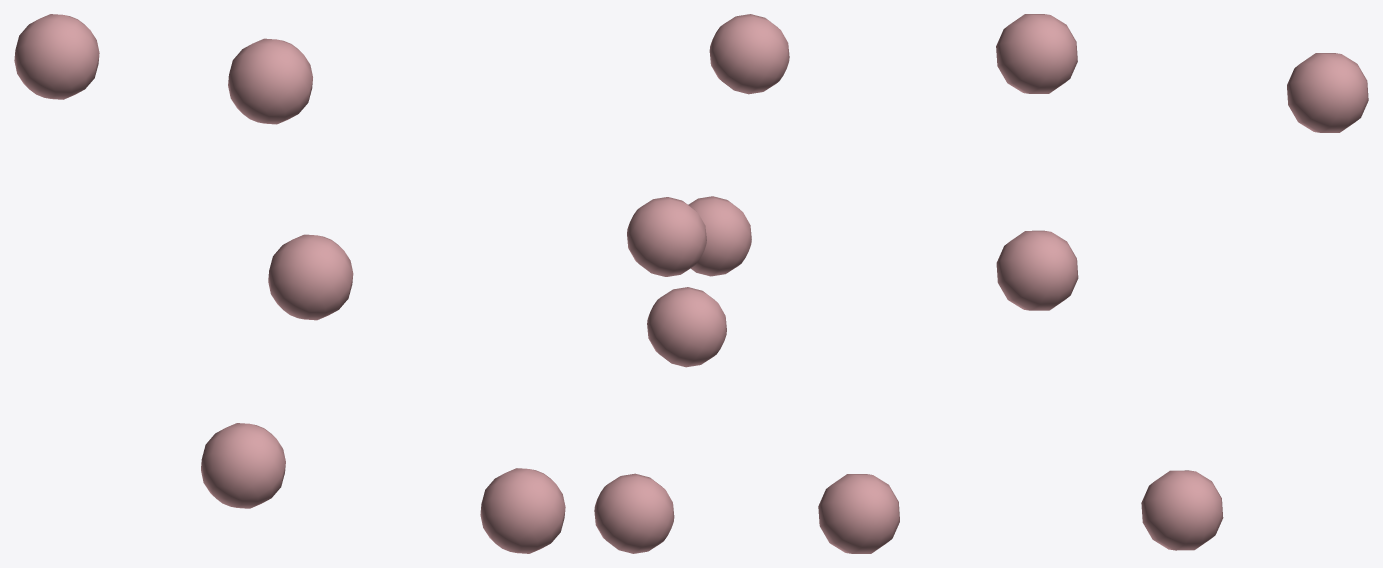
3 renders of one model, left to right at view 1: azimuth 30°, elevation 25°; view 2: azimuth 150°, elevation 25°; view 3: azimuth 270°, elevation 25°, orthographic. The views are drawn at different scales.
Parts seen in each view (by area): view 1: ZA_285cdaa50f46edba; view 2: ZA_285cdaa50f46edba; view 3: ZA_285cdaa50f46edba.
Boxes of the visible parts, x1,y1,x2,y2 form: ZA_285cdaa50f46edba: (14, 14, 565, 553); ZA_285cdaa50f46edba: (594, 14, 789, 553); ZA_285cdaa50f46edba: (818, 14, 1368, 553).
Size of the model in its own units: 0.0103 by 0.0175 by 0.0172.
